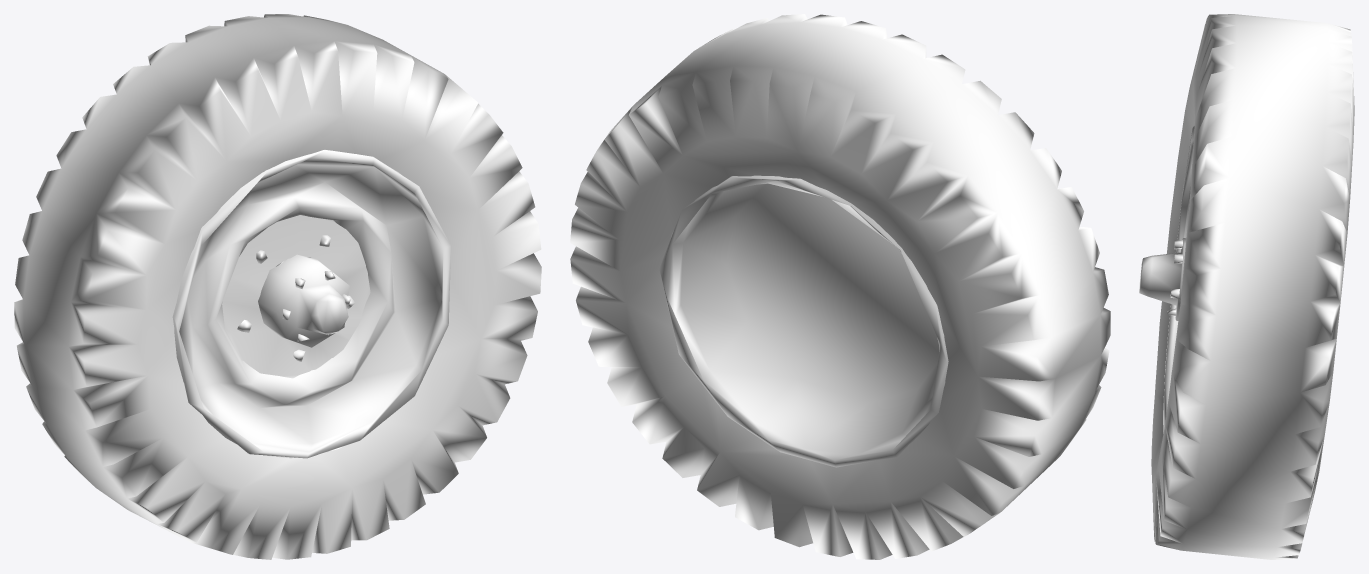
3 views of the same model, side by side, from view 1: azimuth 30°, elevation 25°; view 2: azimuth 150°, elevation 25°; view 3: azimuth 270°, elevation 25° (orthographic). The views are drawn at different scales.
Bounding box in the file's own units: 0.7412 × 0.7503 × 0.2957.
Materials: 1 (1 with a texture image).
